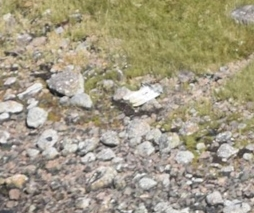cuboid: (117, 77, 163, 111)
